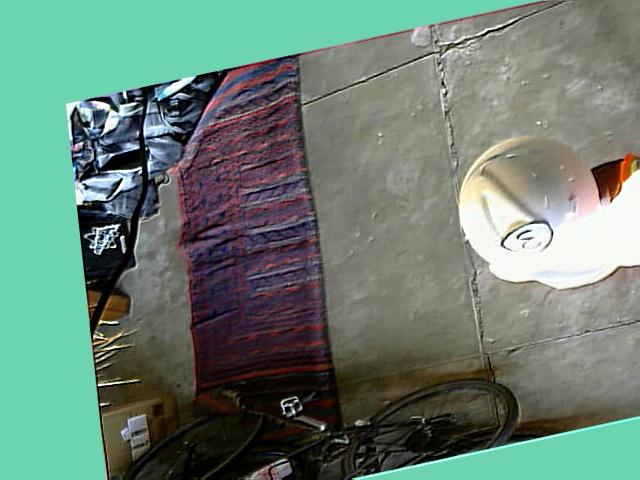three: (497, 218, 554, 262)
